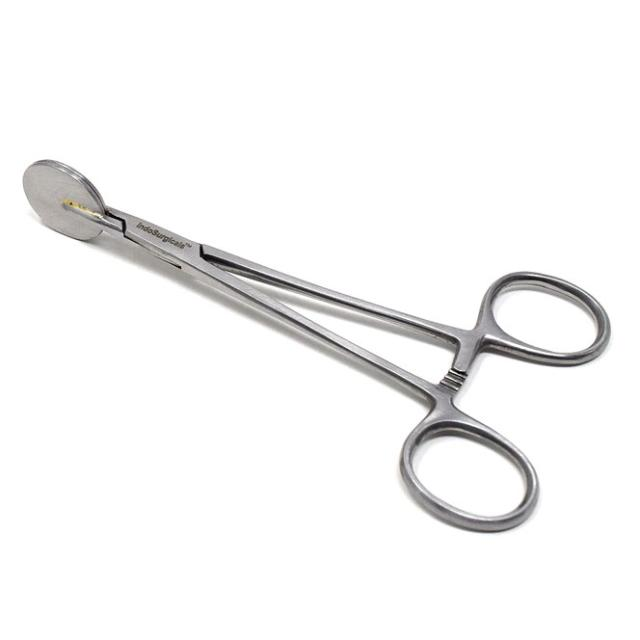B3: (9, 152, 628, 550)
